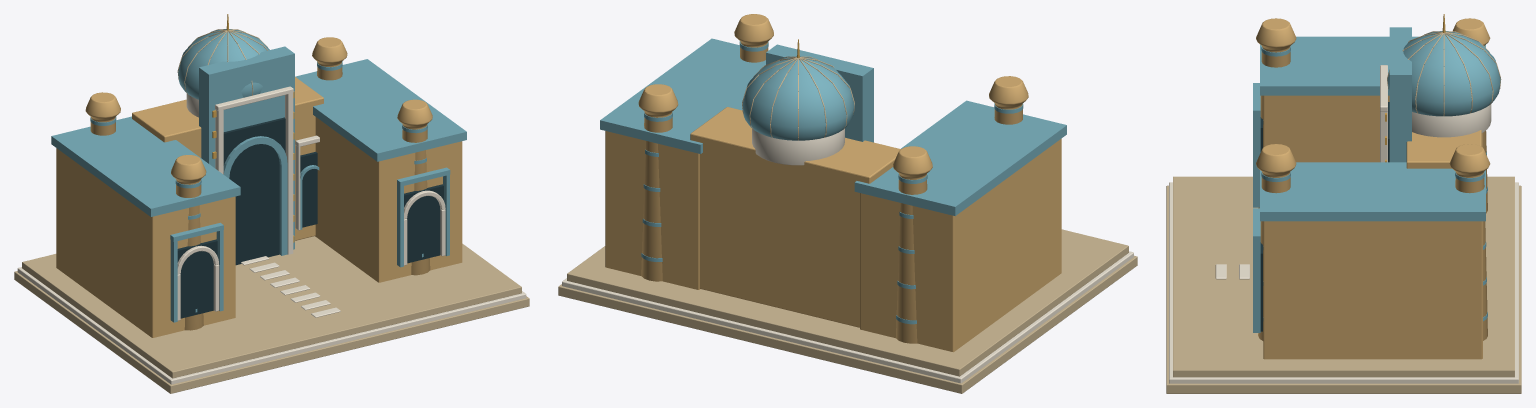
The model's file is registan.glb.
3 views of the same model, side by side, from view 1: azimuth 30°, elevation 25°; view 2: azimuth 150°, elevation 25°; view 3: azimuth 270°, elevation 25° (orthographic). The views are drawn at different scales.
Visible parts, largest first — view 1: registan_sand, registan_glass, registan_stone, registan_ink, registan_ivory; view 2: registan_sand, registan_glass, registan_stone, registan_ivory; view 3: registan_sand, registan_stone, registan_glass, registan_ivory, registan_ink.
Boxes of the visible parts, left/top/right/bottom form: registan_sand: left=56, top=37, right=462, bottom=337; registan_glass: left=51, top=29, right=466, bottom=322; registan_stone: left=14, top=29, right=529, bottom=393; registan_ink: left=177, top=117, right=443, bottom=318; registan_ivory: left=17, top=86, right=526, bottom=384; registan_sand: left=605, top=14, right=1061, bottom=352; registan_glass: left=600, top=38, right=1066, bottom=324; registan_stone: left=558, top=56, right=1137, bottom=393; registan_ivory: left=562, top=128, right=1133, bottom=383; registan_sand: left=1256, top=18, right=1490, bottom=359; registan_stone: left=1166, top=31, right=1521, bottom=393; registan_glass: left=1253, top=27, right=1500, bottom=332; registan_ivory: left=1169, top=65, right=1518, bottom=383; registan_ink: left=1260, top=102, right=1389, bottom=331.
Bounding box in the file's own units: 7.3 × 4.79 × 5.5.
